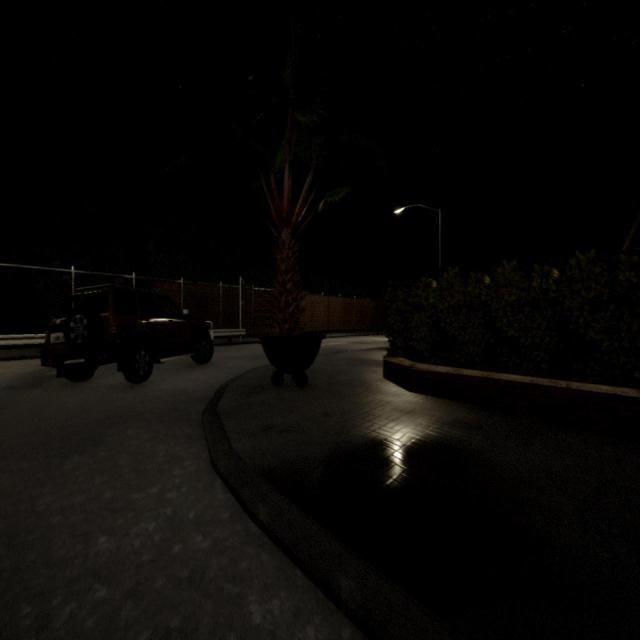Vehicle: (40, 285, 214, 383)
